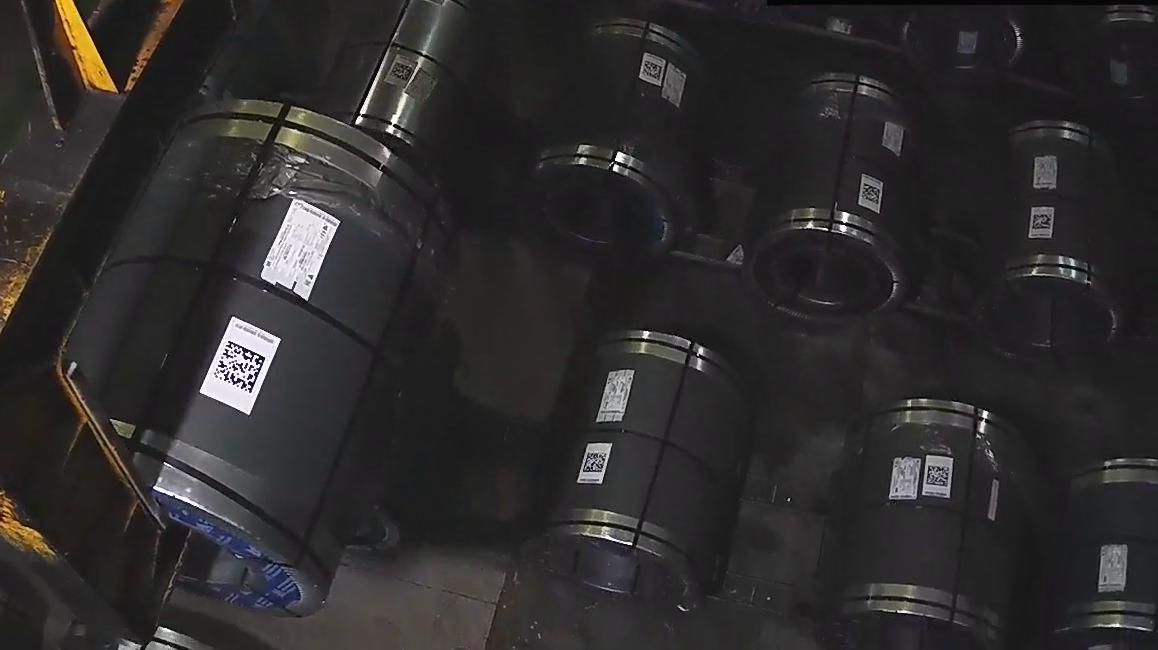data matrix: (208, 338, 267, 398), (925, 463, 953, 490), (582, 451, 609, 475), (641, 58, 665, 84), (389, 62, 416, 84), (861, 183, 883, 207), (1031, 213, 1055, 233)
